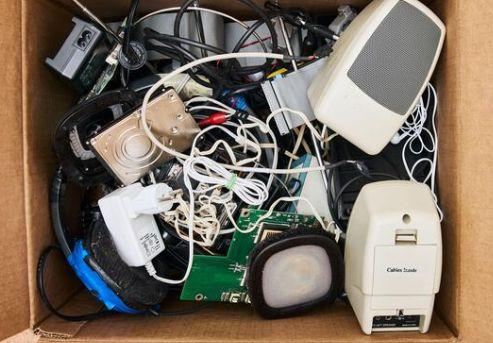electronic: (140, 60, 356, 256), (141, 1, 322, 94), (345, 179, 444, 333), (90, 88, 200, 186), (36, 242, 122, 323), (98, 180, 173, 267), (45, 17, 112, 91), (174, 0, 211, 61), (178, 74, 214, 100), (328, 5, 357, 36)
